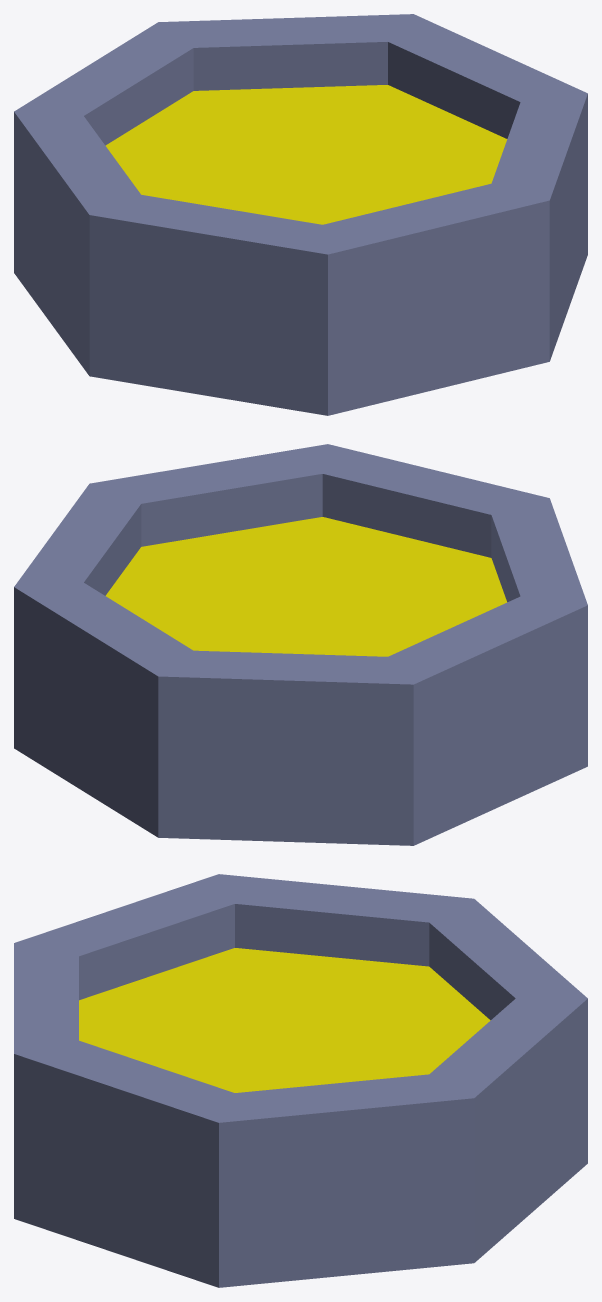
The model's file is ceilinglight.fbx.
3 views of the same model, one above another, from view 1: azimuth 30°, elevation 25°; view 2: azimuth 150°, elevation 25°; view 3: azimuth 270°, elevation 25° (orthographic). The views are drawn at different scales.
Parts seen in each view (by area): view 1: Cylinder.006; view 2: Cylinder.006; view 3: Cylinder.006.
Boxes of the visible parts, left/top/right/bottom form: Cylinder.006: left=14, top=14, right=587, bottom=415; Cylinder.006: left=14, top=444, right=587, bottom=845; Cylinder.006: left=14, top=874, right=587, bottom=1287.
Size of the model in its own units: 236 by 72.94 by 230.
